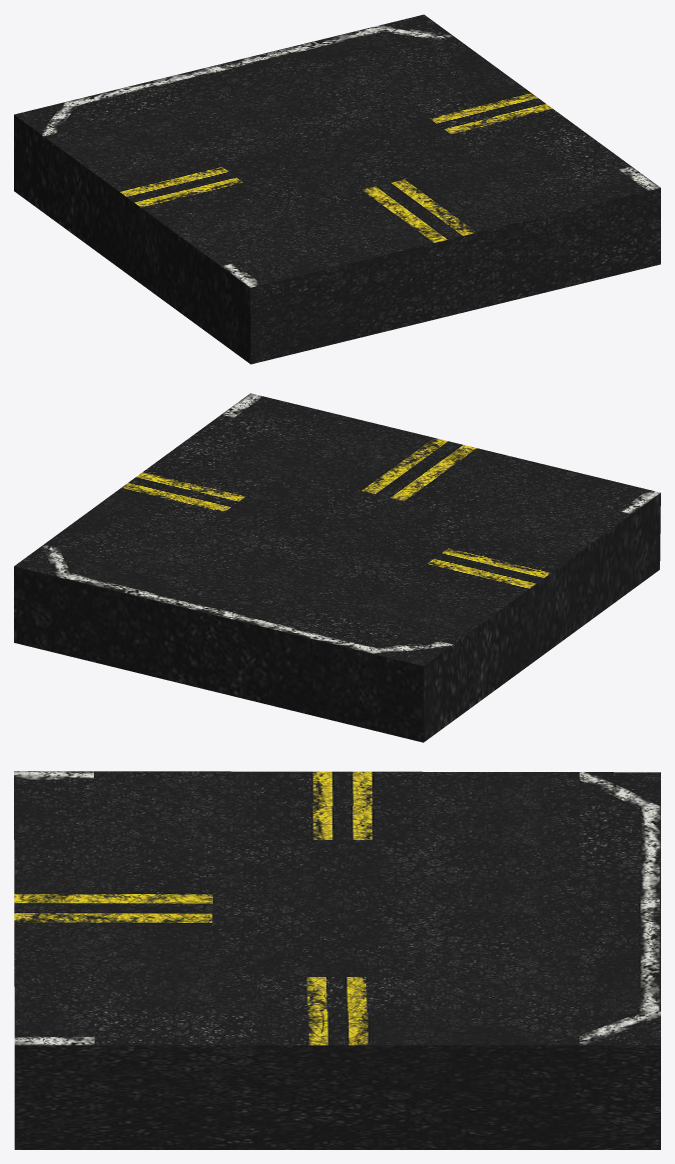
Rendered from PavementT.fbx.
3 views of the same model, one above another, from view 1: azimuth 30°, elevation 25°; view 2: azimuth 150°, elevation 25°; view 3: azimuth 270°, elevation 25° (orthographic). The views are drawn at different scales.
Parts seen in each view (by area): view 1: PavementT; view 2: PavementT; view 3: PavementT.
Part boxes in pixels (x1,y1,x2,y2): PavementT: [14, 14, 660, 364]; PavementT: [14, 393, 660, 742]; PavementT: [14, 771, 660, 1149].
Bounding box in the file's own units: 326 × 58.33 × 325.
1 material, 1 textured.
